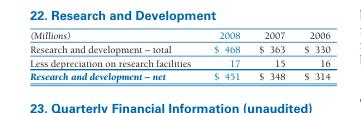table: (29, 29, 329, 82)
table column: (29, 29, 201, 82), (201, 29, 248, 82), (248, 29, 294, 82), (294, 29, 329, 82)
table column header: (29, 29, 329, 41)
table row: (29, 41, 329, 55), (29, 55, 329, 69), (29, 69, 329, 82), (29, 29, 329, 41)
